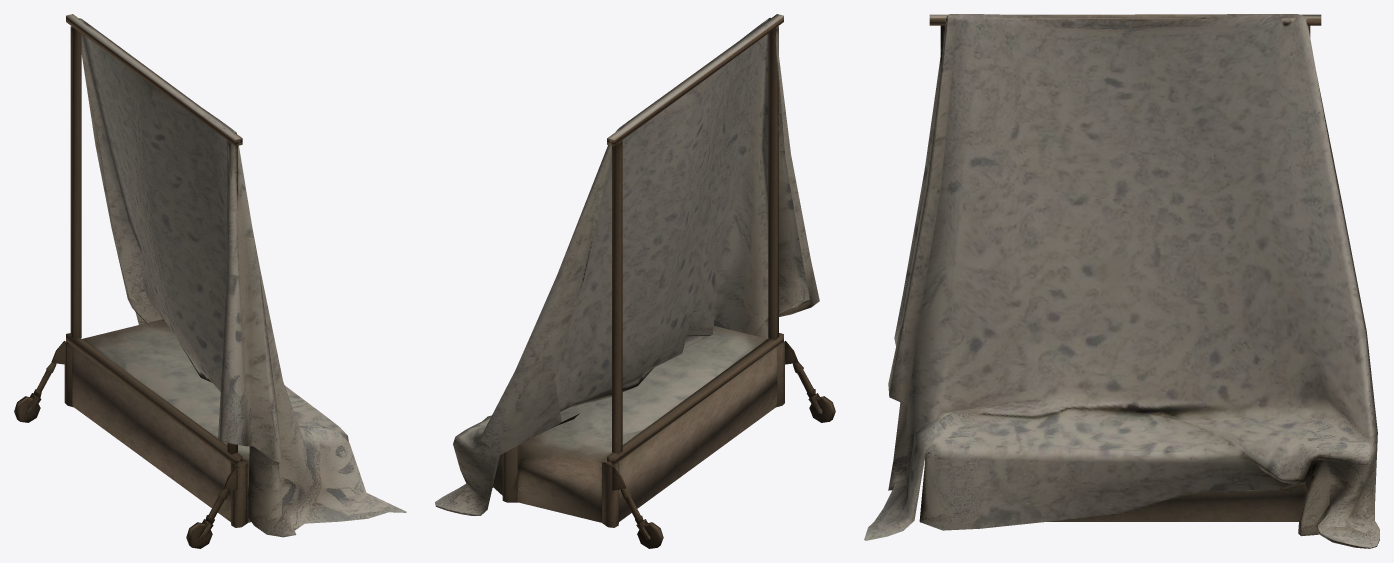
Rendered from Medicine bed.fbx.
3 renders of one model, left to right at view 1: azimuth 30°, elevation 25°; view 2: azimuth 150°, elevation 25°; view 3: azimuth 270°, elevation 25°, orthographic. The views are drawn at different scales.
Parts seen in each view (by area): view 1: tripo_node_26cd4c87-2534-46e8-8b5b-44a4b04ae858; view 2: tripo_node_26cd4c87-2534-46e8-8b5b-44a4b04ae858; view 3: tripo_node_26cd4c87-2534-46e8-8b5b-44a4b04ae858.
Part boxes in pixels (x1,y1,x2,y2): tripo_node_26cd4c87-2534-46e8-8b5b-44a4b04ae858: (14, 14, 406, 548); tripo_node_26cd4c87-2534-46e8-8b5b-44a4b04ae858: (435, 14, 835, 548); tripo_node_26cd4c87-2534-46e8-8b5b-44a4b04ae858: (864, 14, 1379, 548).
Bounding box in the file's own units: 53.32 × 98.63 × 99.8.
1 material, 1 textured.
